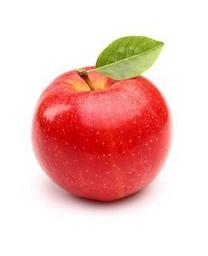apple: (31, 36, 175, 202)
